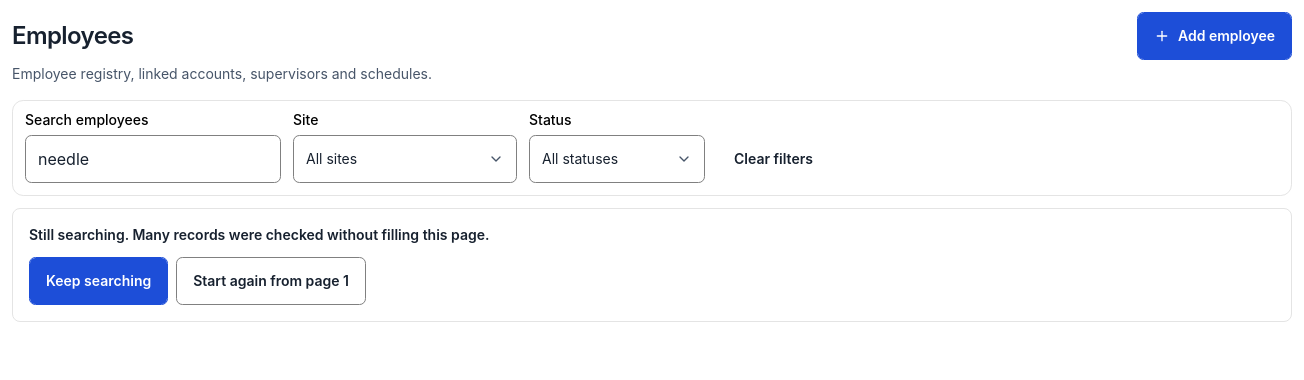
it: terminal reset and stalled scans › pauses a long search for the user and keeps searching on request
The image size is (1304, 380).
Expected: the message with test id "hr-paged-interrupted" shows "Still searching.", top-left (29, 226), bottom-right (490, 243)
Click the button "Keep searching". click: click(99, 281)
box: top-left (29, 257), bottom-right (168, 305)
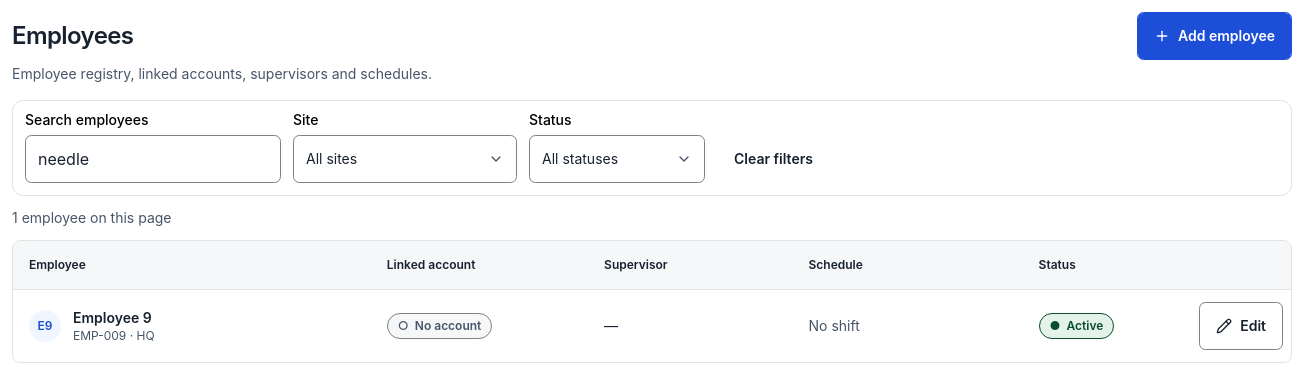
Expected: the text "Employee 9" is shown, top-left (73, 308), bottom-right (155, 328)
